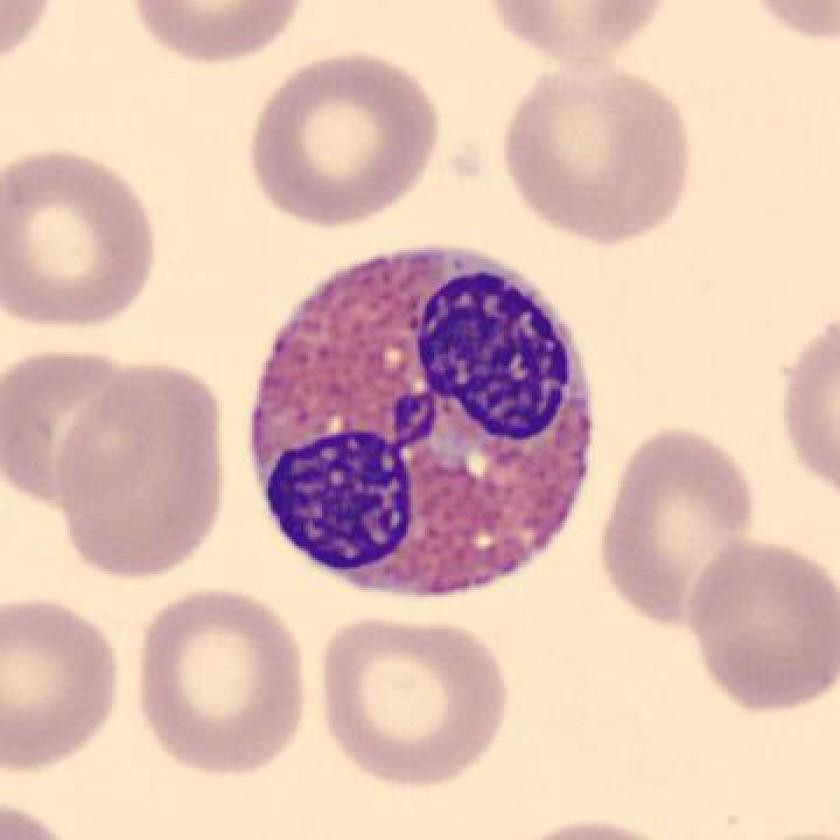eosinophil: (234, 237, 610, 619)
